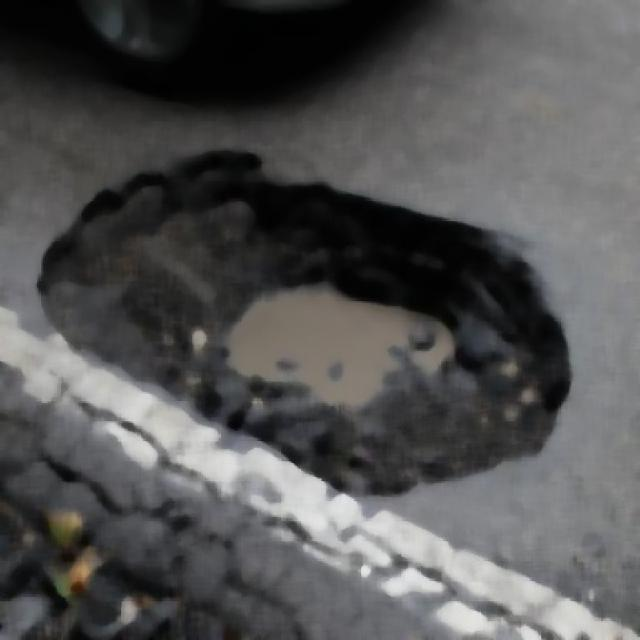Pothole: (164, 165, 476, 473)
